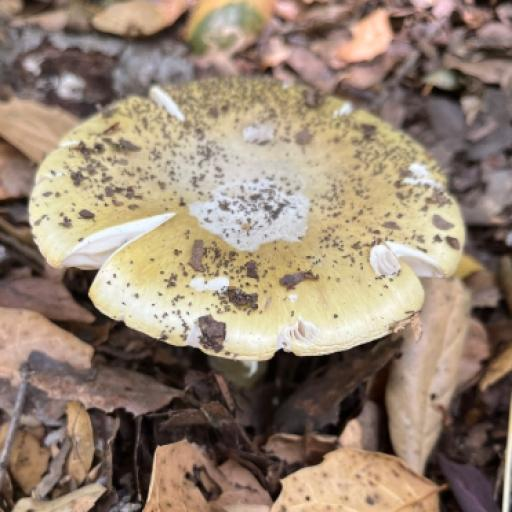mushroom: (16, 46, 469, 383)
